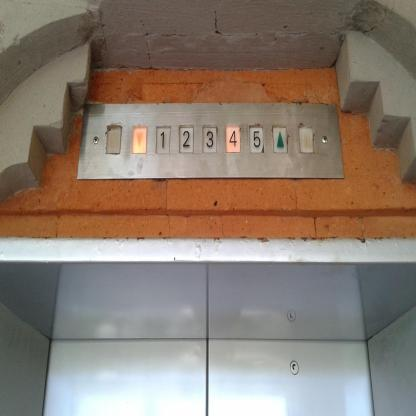1: (154, 125, 170, 155)
2: (178, 124, 194, 154)
3: (202, 124, 218, 154)
4: (224, 123, 240, 153)
5: (248, 124, 264, 154)
blur: (298, 125, 314, 153)
down: (131, 124, 148, 155)
empty: (106, 124, 122, 154)
up: (272, 125, 288, 153)
